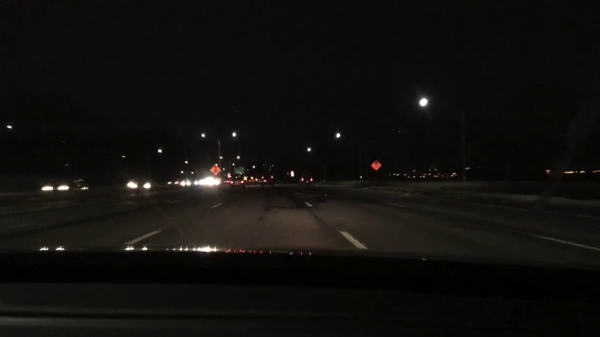car: (41, 178, 90, 191), (128, 178, 155, 188), (260, 174, 275, 187), (231, 176, 246, 189), (300, 174, 314, 186), (167, 178, 180, 184), (181, 180, 193, 186), (201, 178, 211, 184), (249, 177, 257, 184), (213, 177, 220, 185), (193, 178, 201, 184), (223, 178, 230, 184)
traffic sign: (371, 160, 381, 170), (210, 164, 220, 174), (234, 166, 245, 175)
